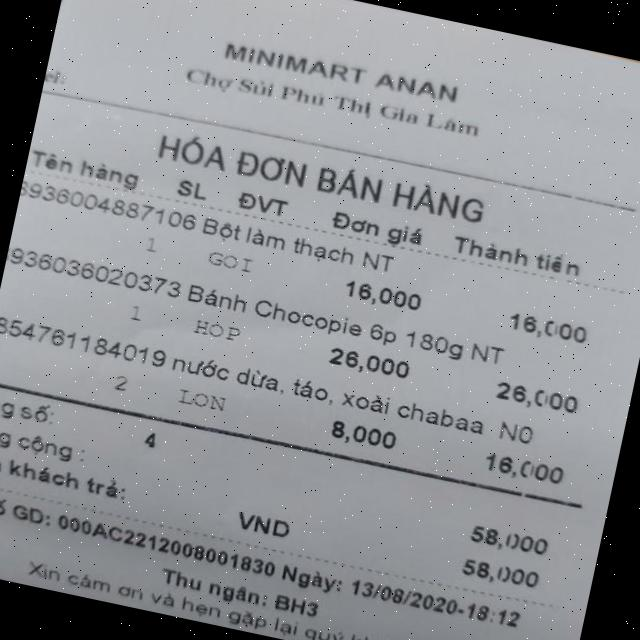Date: (347, 574, 462, 622)
Store_Name: (180, 25, 470, 122)
amount_number: (460, 514, 562, 568)
label_total: (0, 412, 91, 468)
